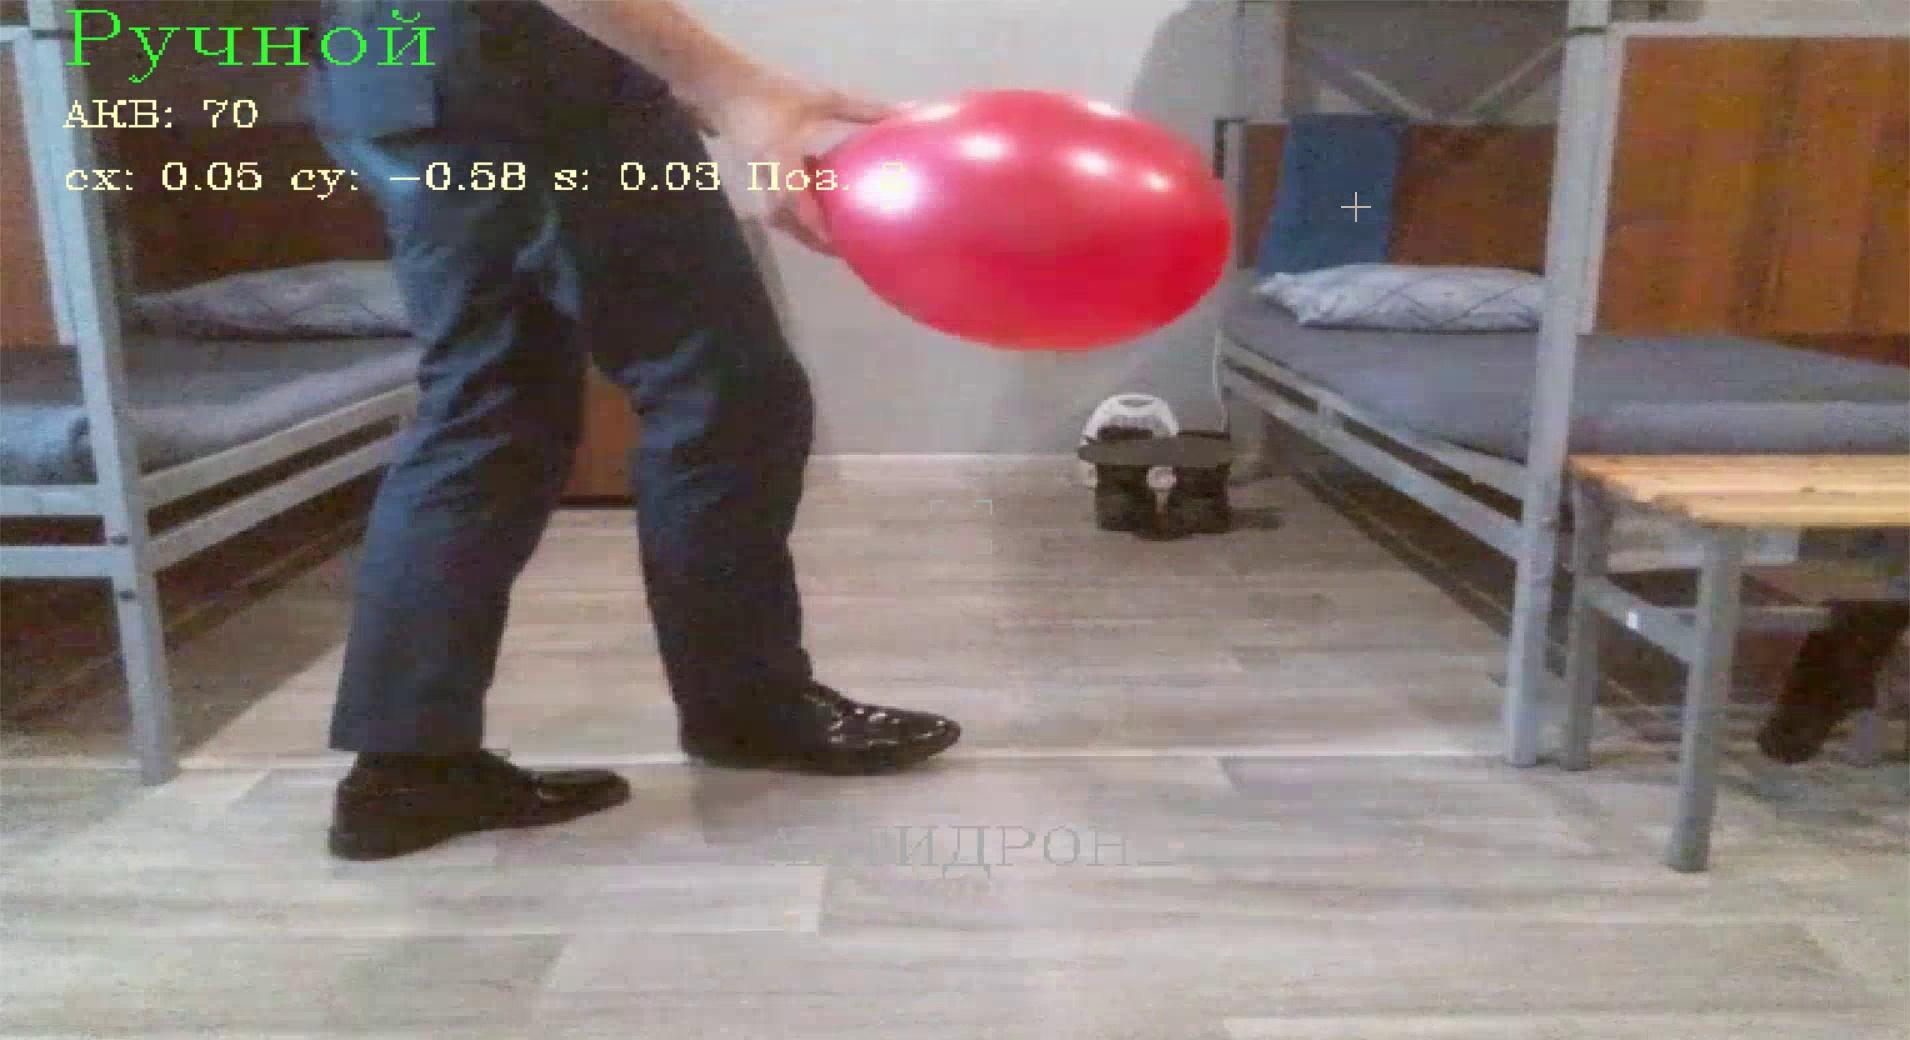red: (818, 82, 1239, 356)
